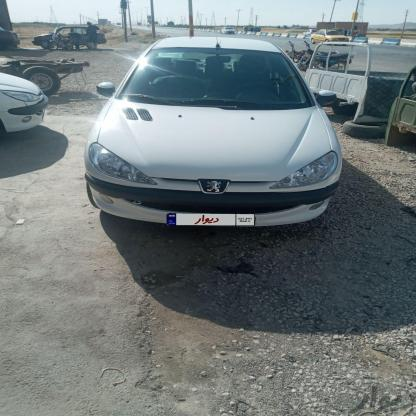Car: (98, 33, 350, 237), (0, 62, 47, 146), (30, 25, 112, 53)
